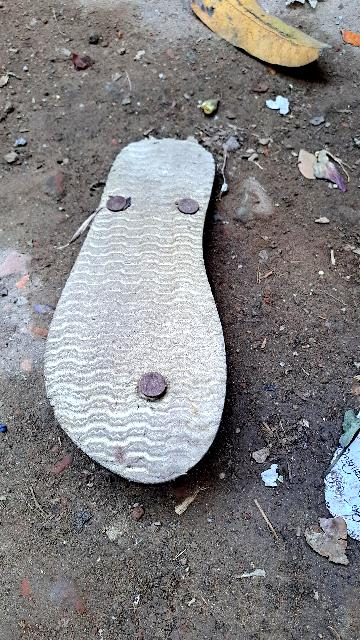sandal: (30, 133, 259, 494)
